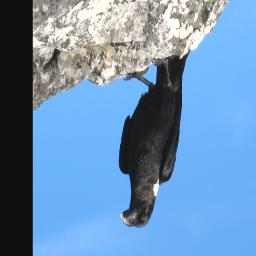Crow: (117, 48, 191, 231)
